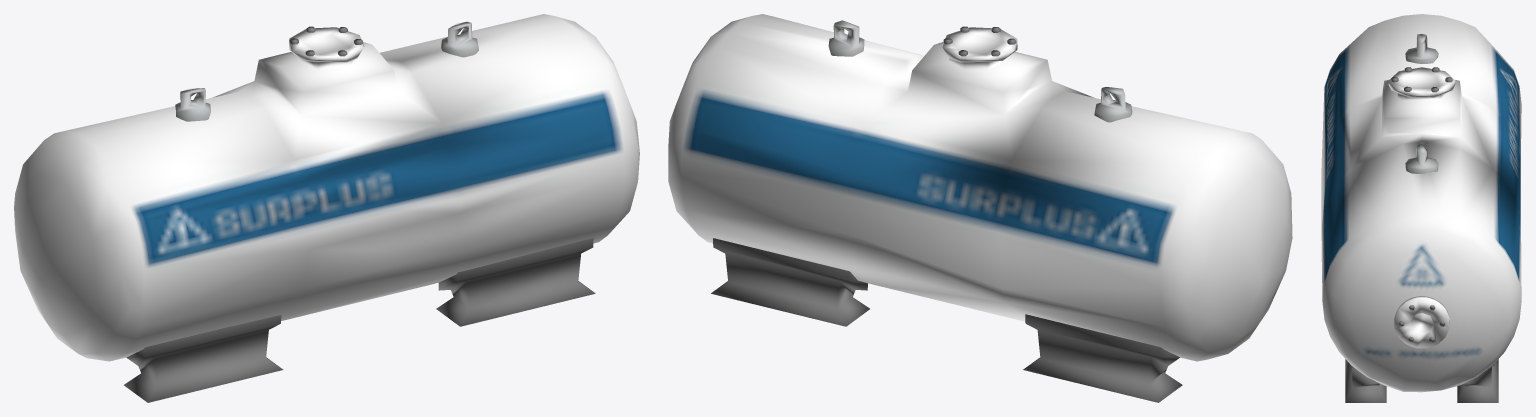
Rendered from industrial_storage_tank_low.glb.
3 renders of one model, left to right at view 1: azimuth 30°, elevation 25°; view 2: azimuth 150°, elevation 25°; view 3: azimuth 270°, elevation 25°, orthographic. The views are drawn at different scales.
Visible parts, largest first — view 1: RetryTank_low, TankLegs_low, Hooks_low; view 2: RetryTank_low, TankLegs_low, Hooks_low; view 3: RetryTank_low, TankLegs_low, TankEnd_low, Hooks_low, TankTopBolts_low.
Part boxes in pixels (bbox=[...]): RetryTank_low: bbox=[14, 14, 639, 361]; TankLegs_low: bbox=[124, 238, 595, 402]; Hooks_low: bbox=[175, 21, 478, 121]; RetryTank_low: bbox=[668, 14, 1292, 361]; TankLegs_low: bbox=[711, 238, 1182, 402]; Hooks_low: bbox=[828, 20, 1132, 122]; RetryTank_low: bbox=[1321, 14, 1521, 392]; TankLegs_low: bbox=[1345, 359, 1498, 402]; TankEnd_low: bbox=[1394, 296, 1449, 348]; Hooks_low: bbox=[1405, 34, 1438, 173]; TankTopBolts_low: bbox=[1391, 67, 1452, 92].
Bounding box in the file's own units: 14.89 × 6.77 × 5.29.
1 material, 1 textured.
